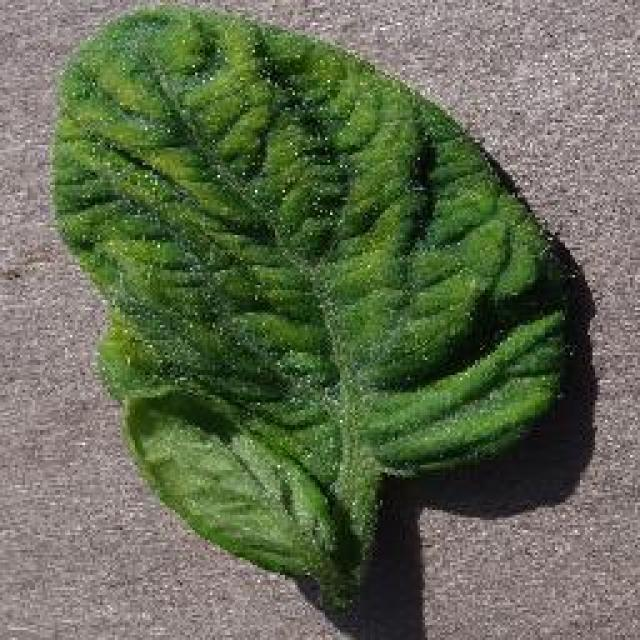Tomato yellow virus leaf: (51, 5, 576, 590)
